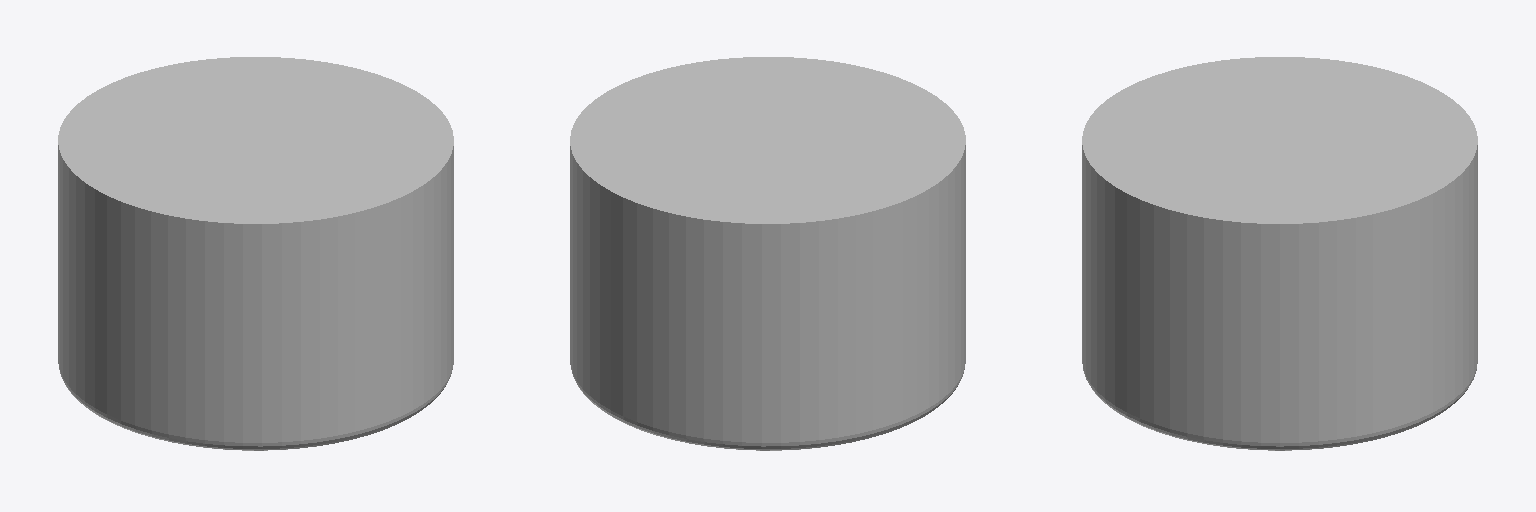
Rendered from Start.obj.
3 views of the same model, side by side, from view 1: azimuth 30°, elevation 25°; view 2: azimuth 150°, elevation 25°; view 3: azimuth 270°, elevation 25° (orthographic).
Parts seen in each view (by area): view 1: Start; view 2: Start; view 3: Start.
Boxes of the visible parts, box(x1,y1,x2,y2) form: Start: box(58, 57, 453, 450); Start: box(570, 57, 965, 450); Start: box(1082, 57, 1477, 450).
Bounding box in the file's own units: 5.9 × 3.8 × 5.9.